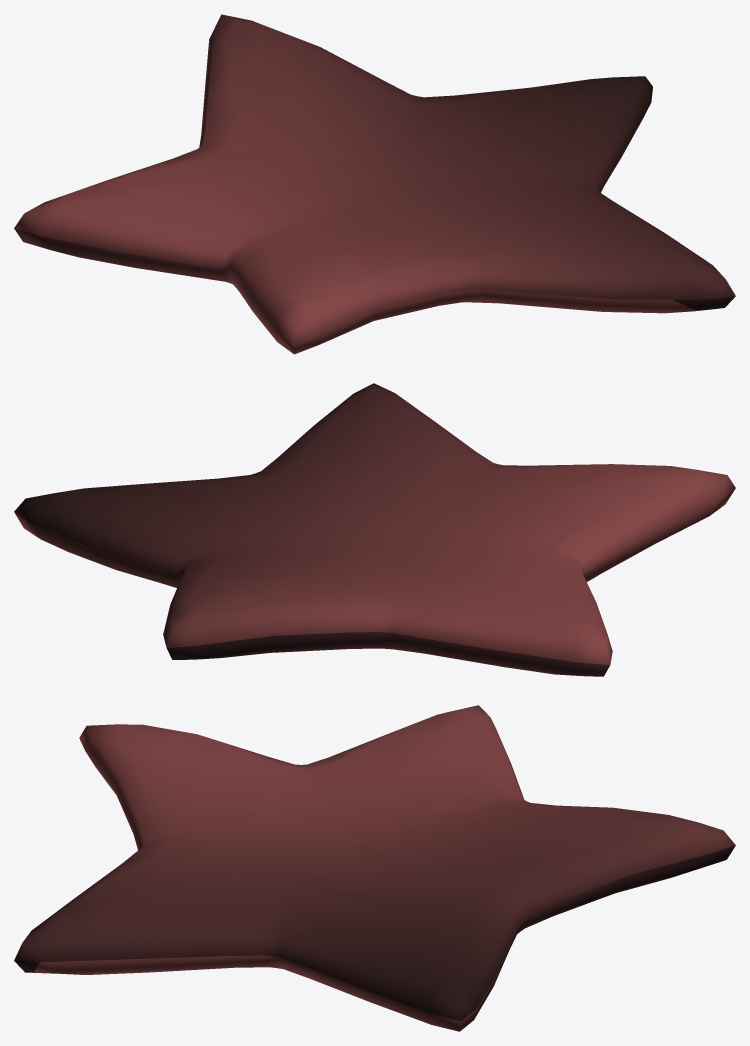
File: star.glb
3 renders of one model, top to bottom at view 1: azimuth 30°, elevation 25°; view 2: azimuth 150°, elevation 25°; view 3: azimuth 270°, elevation 25°, orthographic. The views are drawn at different scales.
Visible parts, largest first — view 1: cc_star3; view 2: cc_star3; view 3: cc_star3.
Boxes of the visible parts, left/top/right/bottom form: cc_star3: left=14, top=14, right=735, bottom=354; cc_star3: left=14, top=383, right=735, bottom=676; cc_star3: left=14, top=705, right=735, bottom=1031.
Size of the model in its own units: 0.1361 by 0.0209 by 0.1375.
Materials: 1 (1 with a texture image).
